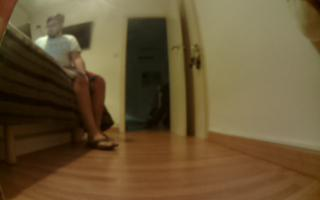person: (33, 10, 122, 149)
